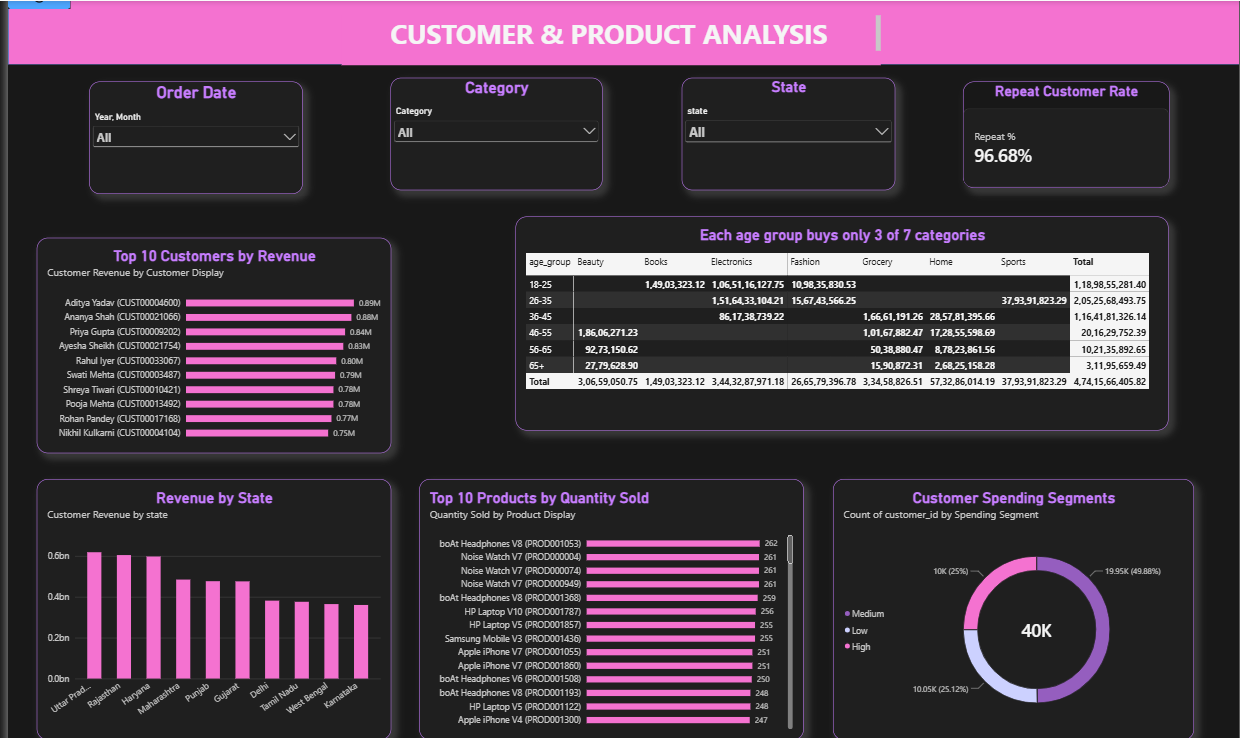

The page's visual inventory and layout, read from the dashboard file:
{"tool":"powerbi","page":{"name":"Customer & Product Analysis","canvas":[1970,1285],"ordinal":2},"visuals":[{"type":"clusteredBarChart","title":"Top 10 Customers by Revenue","fields":{"Category":["public customer.Customer Display"],"Y":["public customer.Customer Revenue"]},"box":[45,405,567.5,345],"z":0},{"type":"clusteredColumnChart","title":"Revenue by State","fields":{"Category":["public customer.state"],"Y":["public customer.Customer Revenue"]},"box":[45,792.5,567.5,417.5],"z":1000},{"type":"shape","title":"CUSTOMER & PRODUCT ANALYSIS Customer value · Product performance · Regional revenue","box":[0,0,2500,129],"z":2000},{"type":"textbox","box":[236.2,11.2,752.5,108.8],"z":3000},{"type":"clusteredBarChart","title":"Top 10 Products by Quantity Sold","fields":{"Category":["public product.Product Display"],"Y":["public sale.Quantity Sold"]},"box":[657.5,792.5,615,417.5],"z":4000},{"type":"donutChart","title":"Customer Spending Segments","fields":{"Category":["public customer.Spending Segment"],"Y":["CountNonNull(public customer.customer_id)"]},"box":[1320,792.5,577.5,417.5],"z":5000},{"type":"slicer","title":"Order Date","fields":{"Values":["public sale.order_date.Variation.Date Hierarchy.Year","public sale.order_date.Variation.Date Hierarchy.Month"]},"box":[130,155,341.7,180],"z":6000},{"type":"slicer","title":"Category","fields":{"Values":["public product.category"]},"box":[612.5,150,338.9,180],"z":7000},{"type":"slicer","title":"State","fields":{"Values":["public customer.state"]},"box":[1077.5,150,341.7,180],"z":8000},{"type":"actionButton","box":[0,0,100,40],"z":9000},{"type":"cardVisual","title":"Repeat Customer Rate","fields":{"Data":["public customer.Repeat %"]},"box":[1527.5,155,330,170],"z":10000},{"type":"pivotTable","title":"Each age group buys only 3 of 7 categories","fields":{"Columns":["public product.category"],"Rows":["public customer.age_group"],"Values":["public sale.Total Revenue"]},"box":[750,405,1045,342.5],"z":11000}]}

Visuals, with their boxes on the page's 1970x1285 design canvas (x1, y1, x2, y2). These are canvas units, not pixel positions in the 1240x738 screenshot, which may show the page scaled, cropped or inside an application window:
"Top 10 Customers by Revenue" clusteredBarChart: x1=45, y1=405, x2=612, y2=750
"Revenue by State" clusteredColumnChart: x1=45, y1=792, x2=612, y2=1210
"CUSTOMER & PRODUCT ANALYSIS Customer value · Product performance · Regional revenue" shape: x1=0, y1=0, x2=2500, y2=129
textbox: x1=236, y1=11, x2=989, y2=120
"Top 10 Products by Quantity Sold" clusteredBarChart: x1=658, y1=792, x2=1272, y2=1210
"Customer Spending Segments" donutChart: x1=1320, y1=792, x2=1898, y2=1210
"Order Date" slicer: x1=130, y1=155, x2=472, y2=335
"Category" slicer: x1=612, y1=150, x2=951, y2=330
"State" slicer: x1=1078, y1=150, x2=1419, y2=330
actionButton: x1=0, y1=0, x2=100, y2=40
"Repeat Customer Rate" cardVisual: x1=1528, y1=155, x2=1858, y2=325
"Each age group buys only 3 of 7 categories" pivotTable: x1=750, y1=405, x2=1795, y2=748
